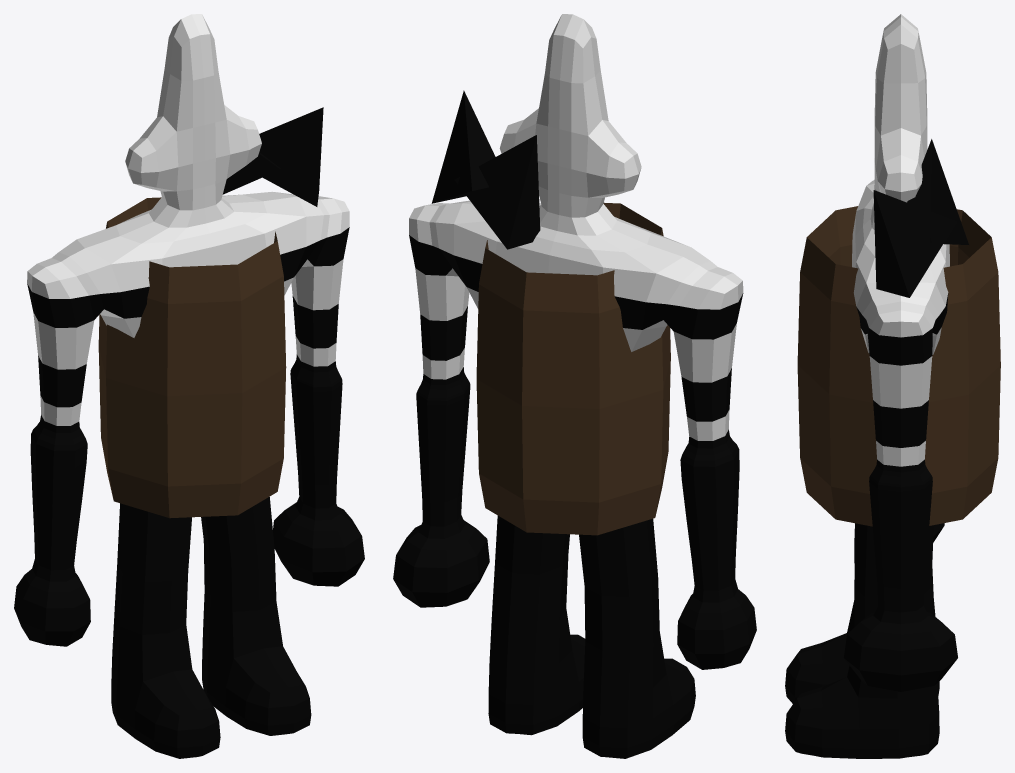
File: котак.fbx
3 renders of one model, left to right at view 1: azimuth 30°, elevation 25°; view 2: azimuth 150°, elevation 25°; view 3: azimuth 270°, elevation 25°, orthographic. The views are drawn at different scales.
Parts seen in each view (by area): view 1: Cube; view 2: Cube; view 3: Cube.
Part boxes in pixels (x1=…): Cube: x1=14, y1=14, x2=364, y2=758; Cube: x1=393, y1=14, x2=756, y2=758; Cube: x1=785, y1=14, x2=1000, y2=758.
Size of the model in its own units: 97.75 by 196 by 53.81.
